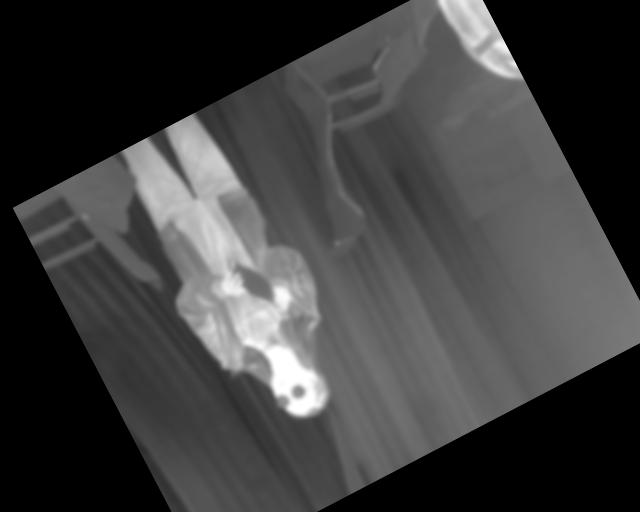face: (262, 352, 337, 429)
